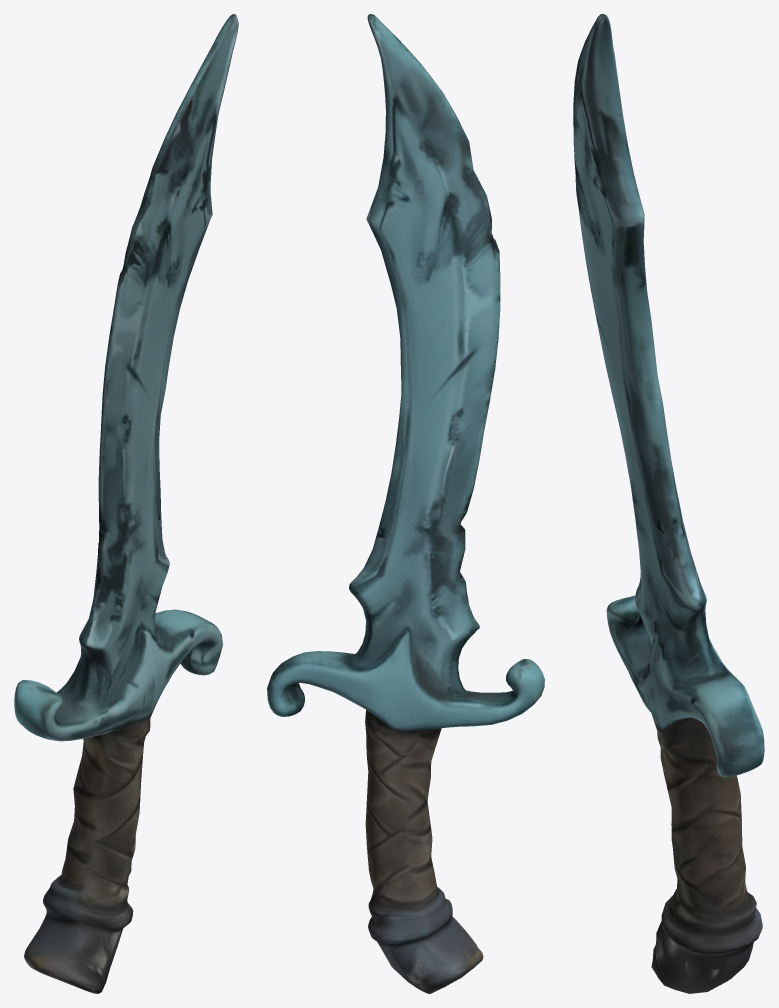
The model's file is glacite_scim.glb.
3 views of the same model, side by side, from view 1: azimuth 30°, elevation 25°; view 2: azimuth 150°, elevation 25°; view 3: azimuth 270°, elevation 25° (orthographic). The views are drawn at different scales.
Parts seen in each view (by area): view 1: glacite_scim_mesh; view 2: glacite_scim_mesh; view 3: glacite_scim_mesh.
Part boxes in pixels (box(x1,y1,x2,y2)): glacite_scim_mesh: box(14, 14, 238, 993); glacite_scim_mesh: box(267, 14, 544, 993); glacite_scim_mesh: box(573, 14, 764, 993).
Bounding box in the file's own units: 0.593 × 2.27 × 0.381.
1 material, 1 textured.
